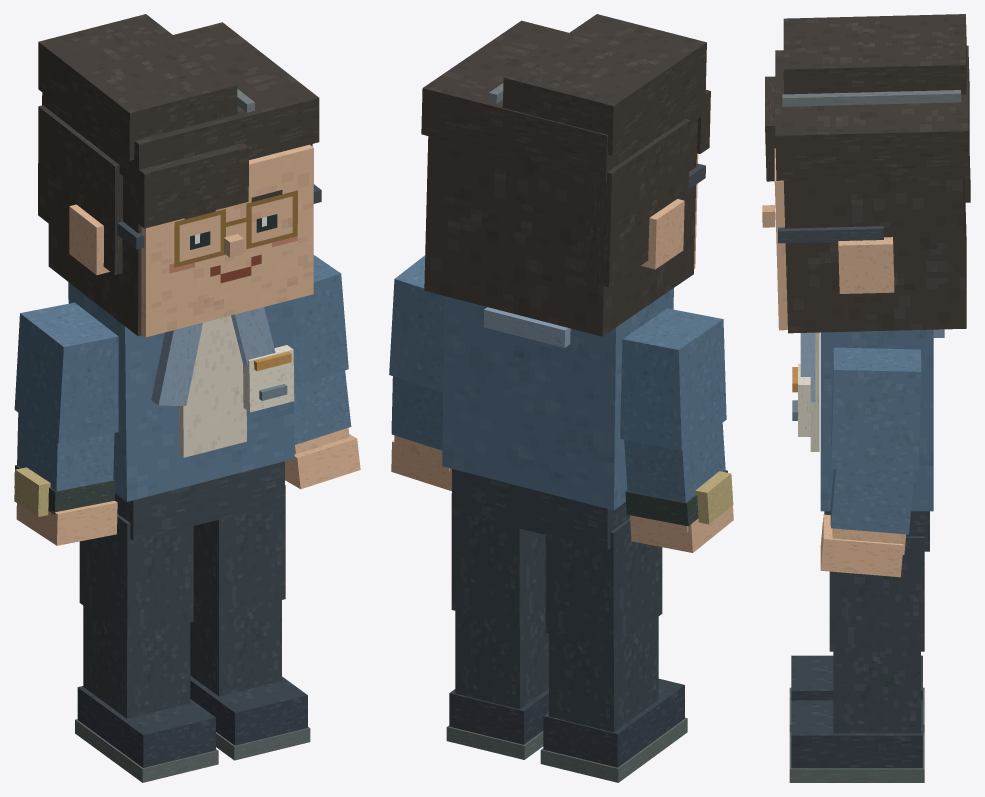
The picture shows the model from 3 angles, left to right: view 1: azimuth 30°, elevation 25°; view 2: azimuth 150°, elevation 25°; view 3: azimuth 270°, elevation 25°; orthographic projection. The views are drawn at different scales.
Parts seen in each view (by area): view 1: hair:sidepart, object 6, object 2, outfit:blazer, object 14, object 24, object 25, object 28, object 29, object 1, object 26, object 20 (+12 smaller); view 2: hair:sidepart, object 5, object 2, object 14, object 24, object 25, object 28, object 29, object 1, object 20, object 26, object 17 (+11 smaller); view 3: hair:sidepart, object 5, object 20, object 28, object 29, object 2, object 30, object 23, object 22, object 8, outfit:blazer, object 31 (+5 smaller).
Boxes of the visible parts, box(x1,y1,x2,y2) form: hair:sidepart: box(38, 14, 319, 274); object 6: box(141, 144, 313, 337); object 2: box(68, 282, 294, 501); outfit:blazer: box(151, 307, 294, 457); object 14: box(14, 302, 118, 443); object 24: box(79, 514, 193, 637); object 25: box(83, 606, 190, 718); object 28: box(193, 485, 285, 615); object 29: box(190, 597, 281, 696); object 1: box(115, 461, 284, 540); object 26: box(77, 686, 215, 767); object 20: box(293, 255, 348, 386); hair:sidepart: box(421, 14, 710, 287); object 5: box(424, 119, 697, 336); object 2: box(442, 288, 673, 510); object 14: box(620, 308, 726, 450); object 24: box(545, 518, 662, 649); object 25: box(549, 616, 658, 732); object 28: box(451, 493, 545, 626); object 29: box(455, 608, 548, 709); object 1: box(452, 469, 629, 549); object 20: box(389, 255, 444, 392); object 26: box(543, 678, 684, 767); object 17: box(624, 423, 725, 502); hair:sidepart: box(765, 14, 970, 202); object 5: box(783, 176, 966, 333); object 20: box(831, 347, 921, 471); object 28: box(829, 536, 924, 651); object 29: box(833, 651, 920, 733); object 2: box(820, 329, 933, 511); object 30: box(791, 700, 922, 768); object 23: box(830, 469, 914, 534); object 22: box(820, 514, 903, 577); object 8: box(838, 237, 894, 293); outfit:blazer: box(792, 329, 944, 451); object 31: box(789, 732, 924, 782).
Bounding box in the file's own units: 0.9363 × 1.98 × 0.5489.
Materials: 17 (17 with a texture image).
